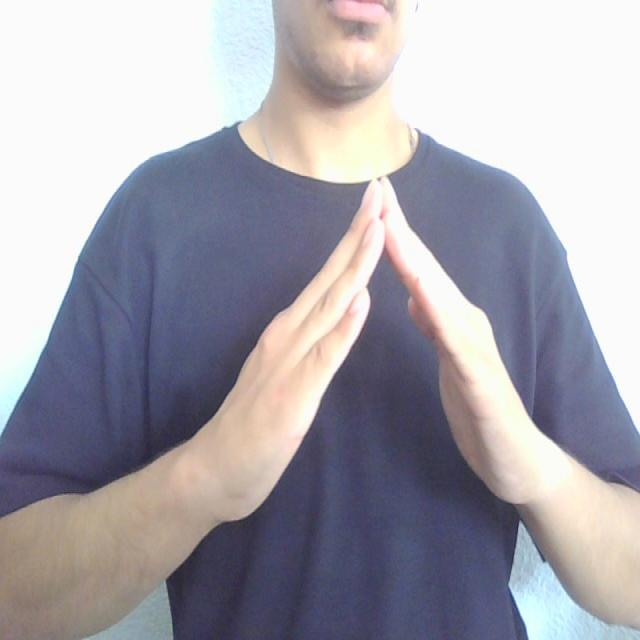Ev: (189, 178, 555, 528)
